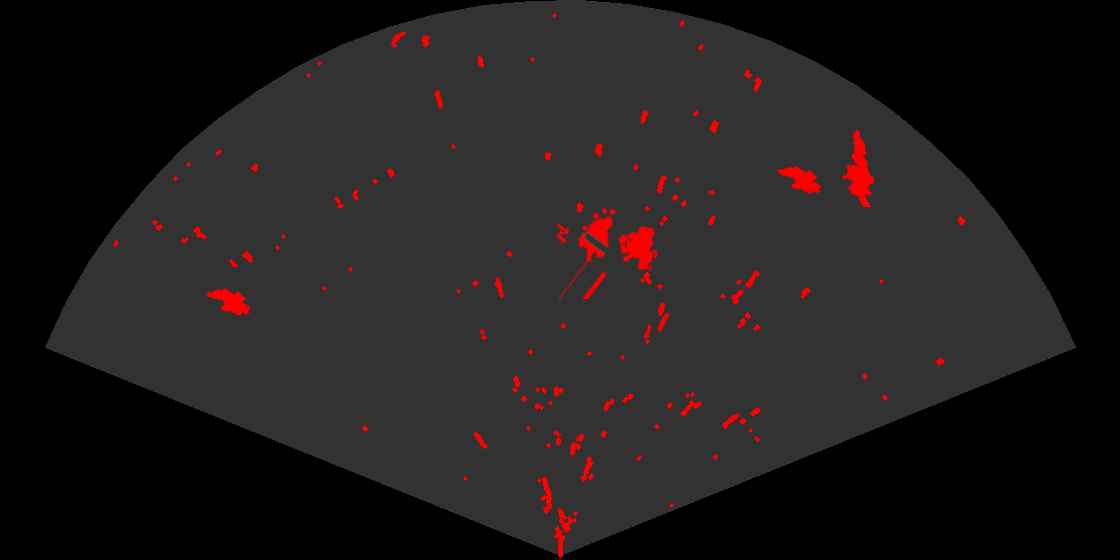AUV: (776, 164, 823, 196), (205, 287, 252, 317)
cage: (557, 207, 656, 299)
frogman: (841, 128, 876, 207)
